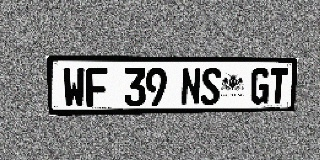3: (124, 67, 145, 106)
9: (146, 67, 167, 106)
F: (85, 67, 108, 107)
G: (250, 68, 270, 104)
N: (181, 68, 201, 105)
S: (201, 68, 221, 105)
T: (268, 68, 289, 104)
W: (62, 67, 86, 107)
